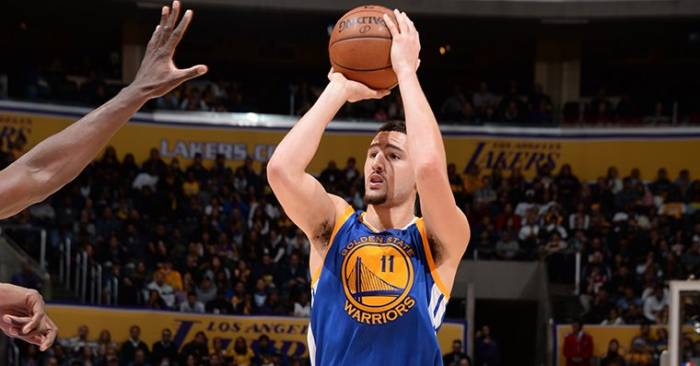b_ball: (328, 1, 426, 91)
face: (354, 124, 419, 205)
player: (265, 30, 475, 366)
